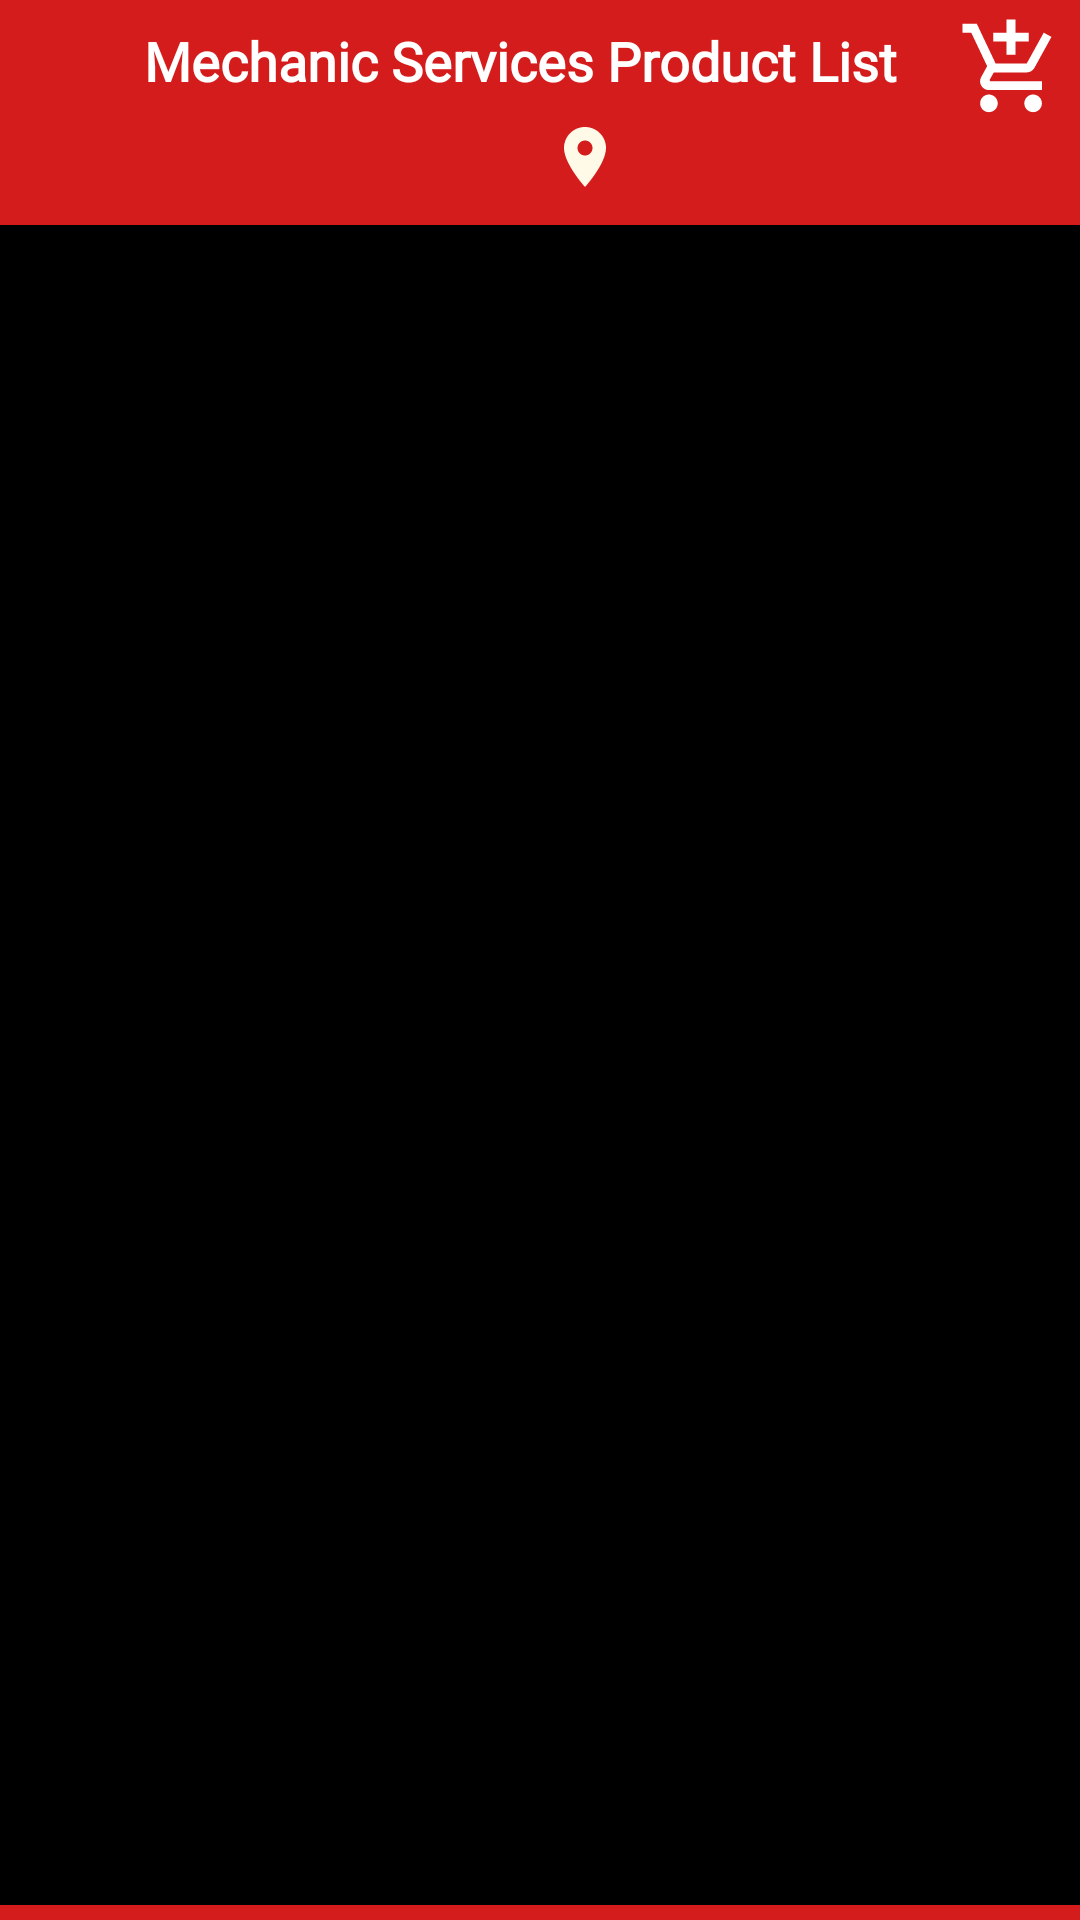

Icon click points for this 1080×1920 phone screenshot, format (x,y):
cart: (1007,66)
location: (585,157)
